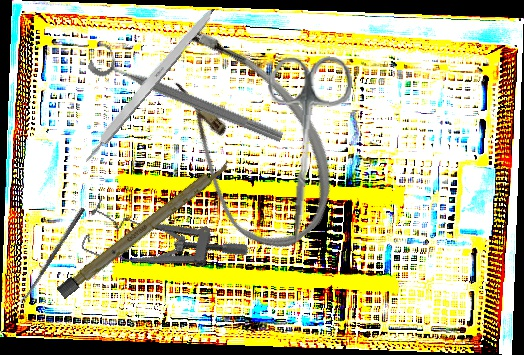Cannula: (124, 9, 365, 268)
Fixation Ring: (86, 39, 290, 149)
Iris Scissors: (257, 52, 354, 249)
Scalpel Handle: (56, 156, 233, 300), (79, 3, 218, 165)
Speculum: (76, 184, 251, 308)
Surgical Spoon: (19, 206, 86, 305)
